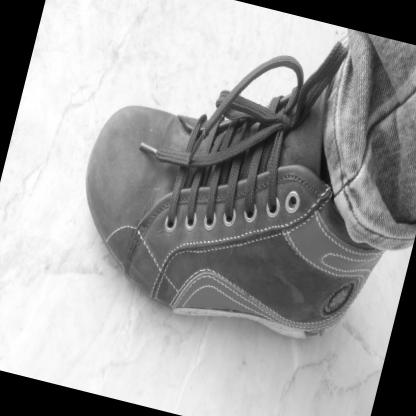ankle: (333, 225, 342, 236)
heel: (329, 316, 338, 329)
pinky: (97, 210, 109, 218)
right_foot: (58, 75, 410, 361)
toe: (128, 109, 136, 120)
